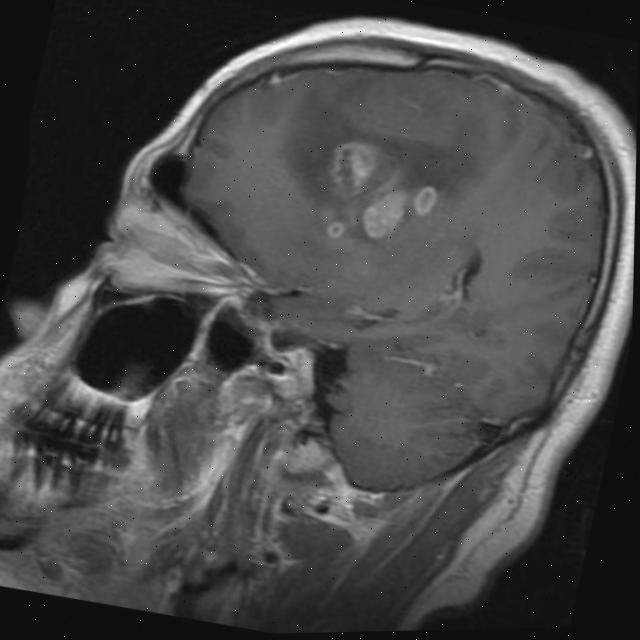Glioma: (357, 175, 442, 252), (322, 132, 386, 204), (324, 218, 345, 241)
